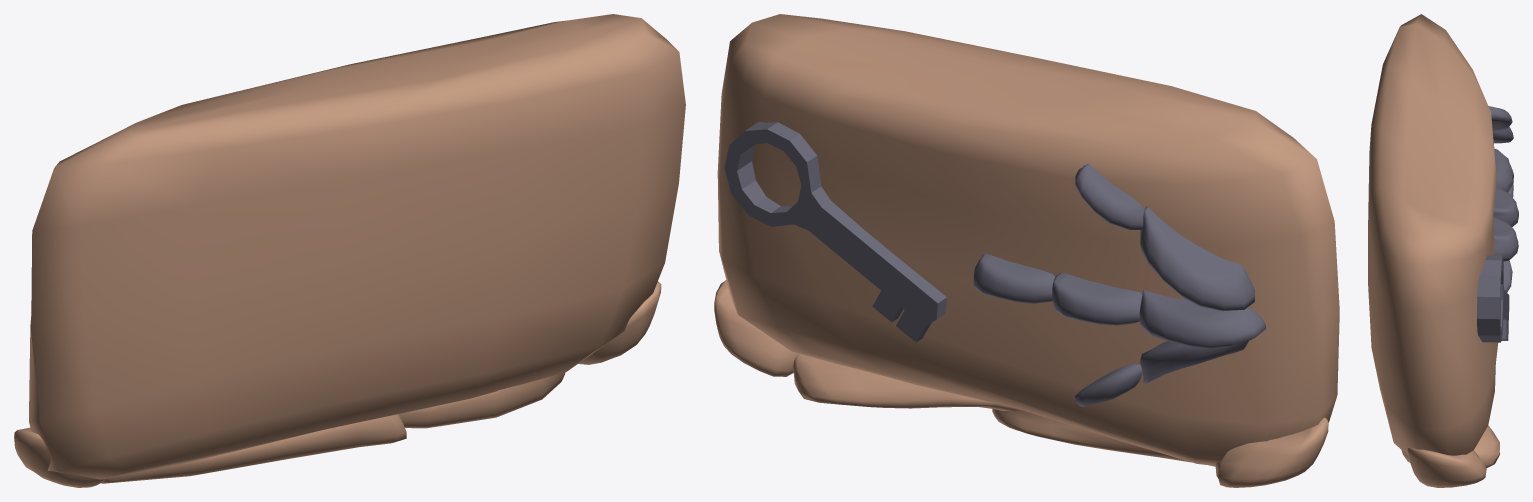
Rendered from signKey.fbx.
3 renders of one model, left to right at view 1: azimuth 30°, elevation 25°; view 2: azimuth 150°, elevation 25°; view 3: azimuth 270°, elevation 25°, orthographic. The views are drawn at different scales.
Parts seen in each view (by area): view 1: sign.004; view 2: sign.004; view 3: sign.004.
Boxes of the visible parts, box(x1,y1,x2,y2) form: sign.004: box(14, 14, 685, 487); sign.004: box(714, 14, 1339, 487); sign.004: box(1368, 14, 1518, 487).
Size of the model in its own units: 1.23 by 0.6848 by 0.3197.
